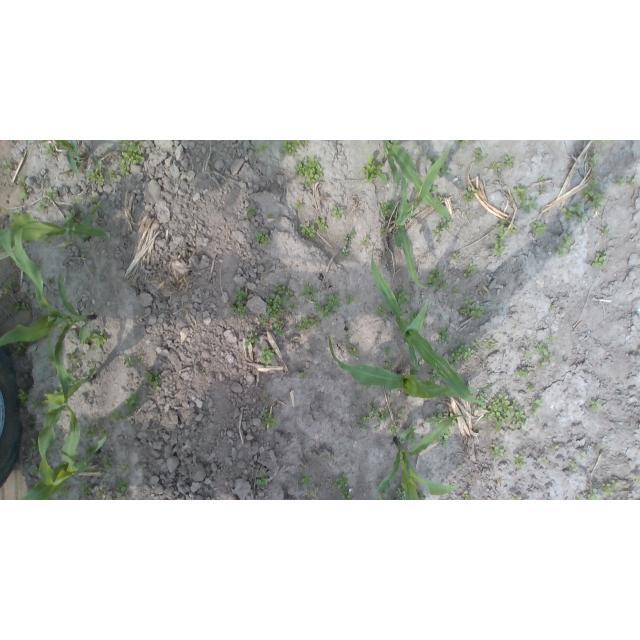Maize: (370, 241, 484, 407), (0, 274, 96, 404), (327, 336, 494, 401), (0, 209, 108, 300), (389, 140, 453, 289), (16, 404, 106, 500), (376, 414, 468, 500), (34, 360, 95, 488), (380, 140, 453, 222), (54, 140, 84, 177)
Weeds: (480, 394, 526, 432), (579, 175, 605, 211), (295, 158, 326, 188), (362, 153, 389, 184), (447, 340, 476, 366), (513, 184, 539, 212), (316, 290, 341, 318), (116, 140, 145, 164), (456, 298, 485, 320), (561, 203, 588, 225), (86, 160, 106, 187), (425, 268, 450, 289), (495, 219, 517, 241), (271, 283, 294, 304), (279, 141, 309, 156), (266, 294, 283, 320), (556, 233, 574, 257), (65, 205, 87, 224), (259, 344, 278, 365), (431, 217, 449, 239), (114, 476, 130, 500), (367, 401, 387, 420), (89, 330, 108, 349), (143, 369, 161, 389), (124, 392, 141, 413), (299, 316, 320, 333), (261, 411, 280, 429), (463, 263, 482, 281), (488, 239, 507, 257), (427, 411, 449, 426), (17, 176, 30, 201), (379, 200, 397, 218), (391, 288, 409, 306), (228, 301, 249, 316), (7, 300, 31, 313), (602, 479, 619, 497), (90, 195, 106, 214), (299, 220, 315, 239), (439, 427, 453, 448), (300, 284, 317, 301), (462, 187, 479, 204), (590, 251, 608, 267), (270, 321, 286, 338), (474, 394, 490, 411), (472, 148, 488, 165), (532, 220, 548, 237), (231, 285, 247, 301), (426, 369, 442, 385), (404, 426, 418, 444), (82, 423, 97, 439), (79, 480, 93, 497), (245, 333, 260, 348), (512, 454, 526, 470), (535, 342, 549, 358), (437, 162, 451, 178), (255, 231, 271, 245), (17, 389, 30, 406), (118, 159, 130, 177), (335, 474, 350, 488), (342, 229, 356, 244), (490, 443, 504, 458), (124, 355, 145, 365), (31, 396, 45, 410), (83, 444, 98, 457), (316, 217, 329, 232), (586, 487, 600, 500), (332, 205, 345, 219), (375, 303, 388, 317), (2, 160, 15, 174), (254, 143, 269, 155), (379, 484, 390, 500), (438, 327, 449, 343), (41, 233, 53, 247), (515, 368, 529, 380), (255, 473, 269, 485), (65, 350, 77, 363), (110, 409, 122, 422), (44, 142, 56, 155), (38, 199, 49, 213), (406, 311, 417, 325), (102, 455, 112, 470), (30, 438, 40, 453), (58, 486, 70, 498), (394, 488, 406, 500), (589, 155, 601, 167), (502, 155, 514, 167), (47, 188, 58, 201), (348, 345, 359, 358), (432, 194, 445, 205), (244, 207, 257, 218), (107, 168, 118, 180), (385, 360, 395, 373), (11, 210, 25, 219), (32, 463, 41, 477), (340, 492, 354, 501), (301, 473, 312, 484), (427, 156, 438, 167), (615, 176, 626, 187), (486, 339, 497, 350), (57, 322, 67, 334), (16, 340, 26, 352), (390, 424, 399, 437), (450, 412, 458, 426), (591, 400, 602, 410), (532, 398, 542, 408), (120, 463, 129, 474), (98, 428, 107, 438), (462, 490, 471, 500), (340, 246, 349, 256), (491, 161, 502, 168), (260, 316, 268, 325), (530, 412, 539, 420), (472, 339, 480, 348), (352, 423, 364, 429), (602, 227, 610, 236), (452, 253, 461, 261), (287, 303, 297, 310), (346, 295, 353, 305), (359, 415, 369, 422), (568, 462, 578, 469), (454, 141, 468, 146), (428, 185, 438, 192), (344, 333, 350, 344), (628, 178, 636, 186), (295, 200, 303, 208), (65, 241, 74, 248), (380, 228, 387, 237), (524, 350, 531, 359), (593, 140, 607, 144), (539, 187, 546, 195), (96, 491, 103, 498), (75, 195, 82, 202), (512, 494, 520, 500), (634, 476, 640, 484), (385, 348, 391, 356), (547, 336, 556, 341), (363, 237, 370, 243), (580, 453, 587, 459), (539, 363, 545, 370), (82, 250, 88, 257), (538, 176, 544, 183), (454, 287, 461, 293), (596, 444, 604, 449), (300, 373, 306, 379), (263, 396, 269, 402), (77, 475, 81, 483), (527, 388, 535, 392), (458, 165, 463, 171), (328, 454, 332, 461), (36, 141, 45, 144), (312, 251, 316, 257), (544, 460, 548, 466), (268, 212, 272, 217), (576, 496, 581, 500), (376, 427, 381, 431), (308, 492, 313, 495), (440, 317, 443, 320)
